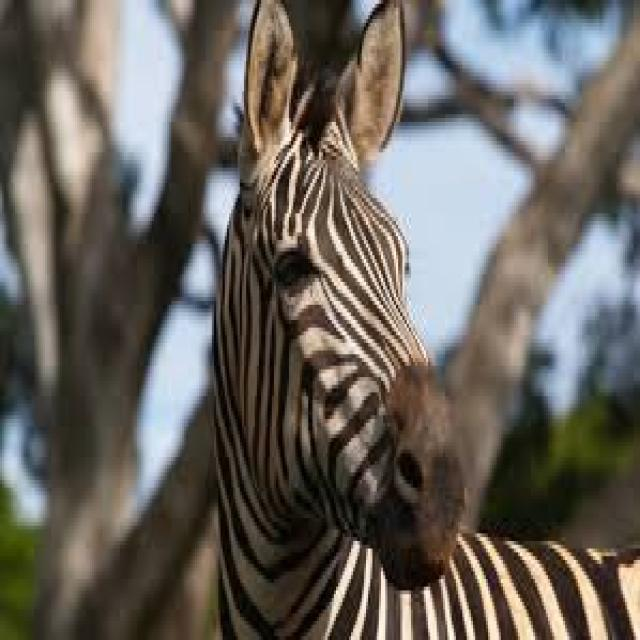Zebra: (205, 0, 640, 640)
